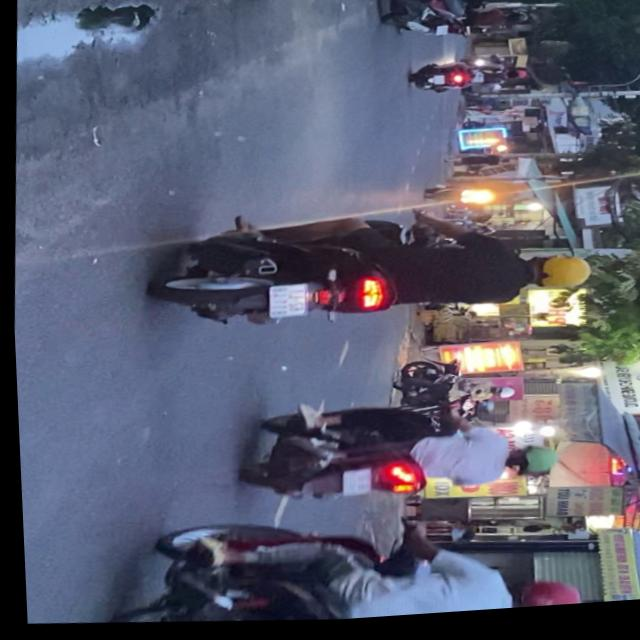helmet: (522, 260, 591, 303), (499, 581, 577, 615), (505, 452, 555, 485)
licenseplate: (146, 195, 598, 351), (90, 498, 584, 636), (231, 394, 559, 521)
nohelmet: (265, 287, 306, 324), (337, 472, 369, 503)
